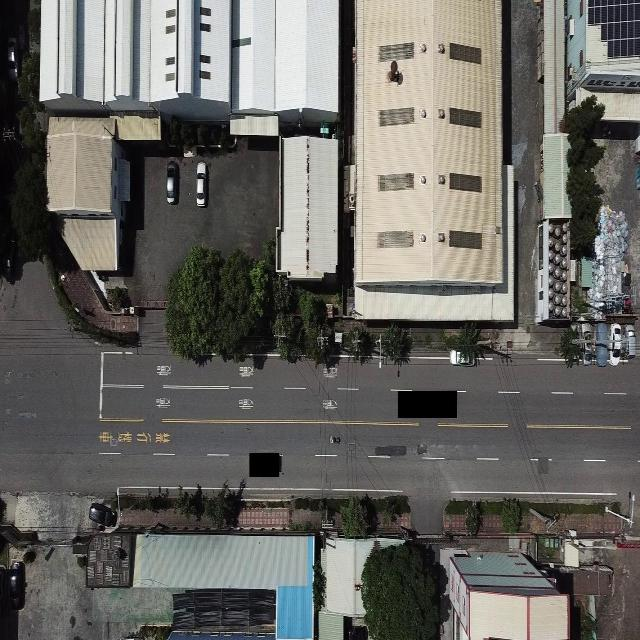car: (8, 563, 28, 610), (86, 497, 115, 527), (194, 159, 209, 211), (164, 156, 180, 204), (622, 324, 636, 360), (610, 324, 621, 368), (450, 347, 474, 365)
